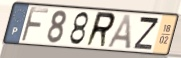8: (46, 9, 69, 45), (69, 11, 90, 46)
A: (106, 13, 134, 50)
F: (19, 6, 50, 43)
R: (84, 11, 117, 50)
Z: (132, 15, 160, 52)
